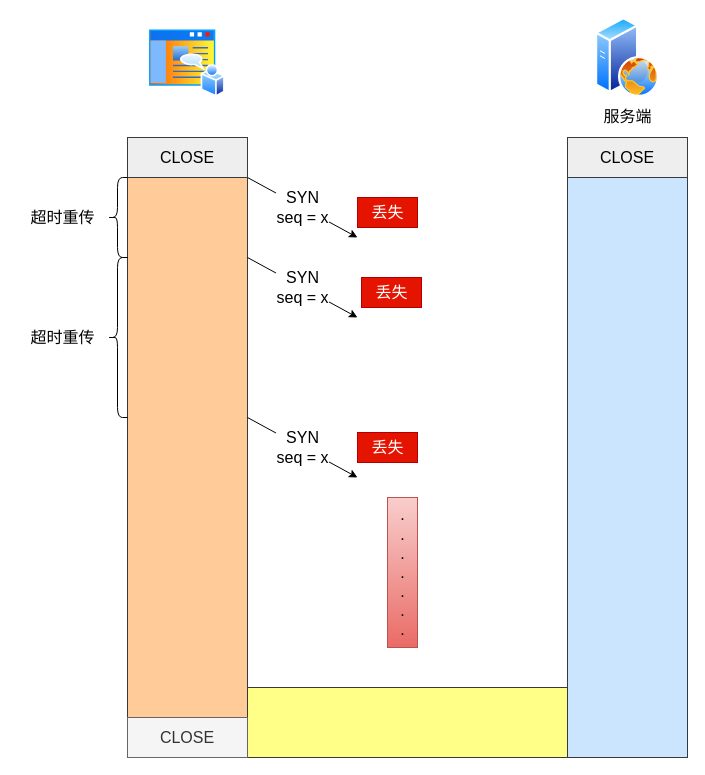
This 705x775 diagram has some shape labels left out. The centre of each missing label's shape, as x and y in pixels:
LISTEN: the point at 627,467
SYN 报文重传次数， 如果超过 tcp_syn_retries 参数的值， 则释放连接: the point at 407,722
SYN_SENT: the point at 187,447
客户端: the point at 186,62
